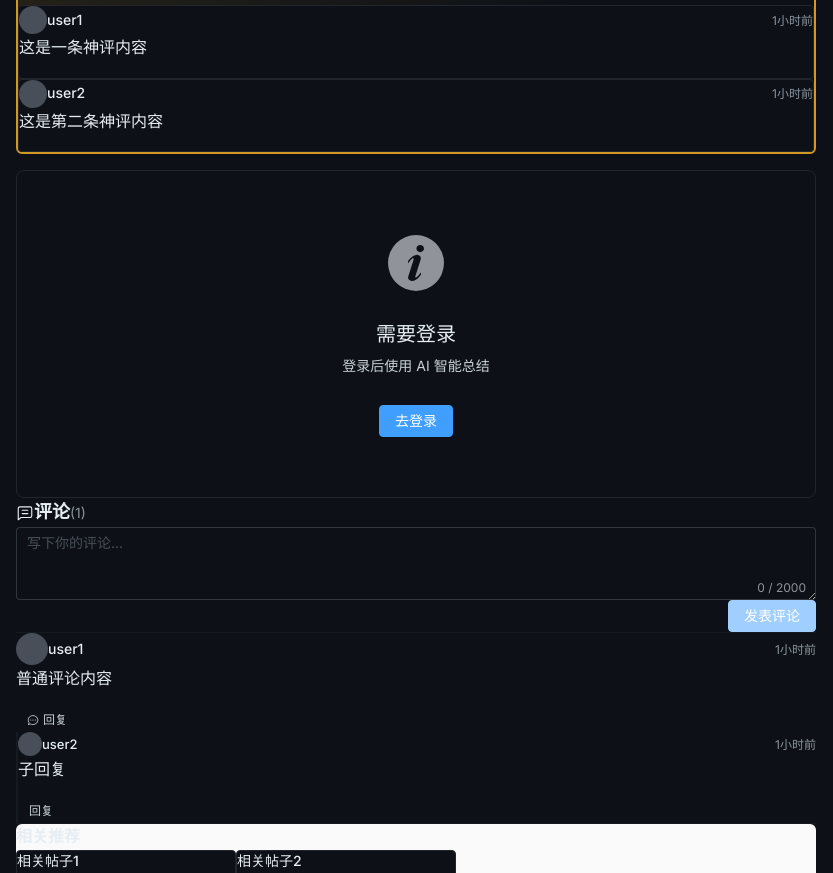
PostDetailPage › Section 6 — Comments › shows inline reply form when reply button clicked
The width and height of the screenshot is (833, 873).
(page scrolled)
Click the 1st button "回复".
click(47, 720)  # box [16,708,78,732]
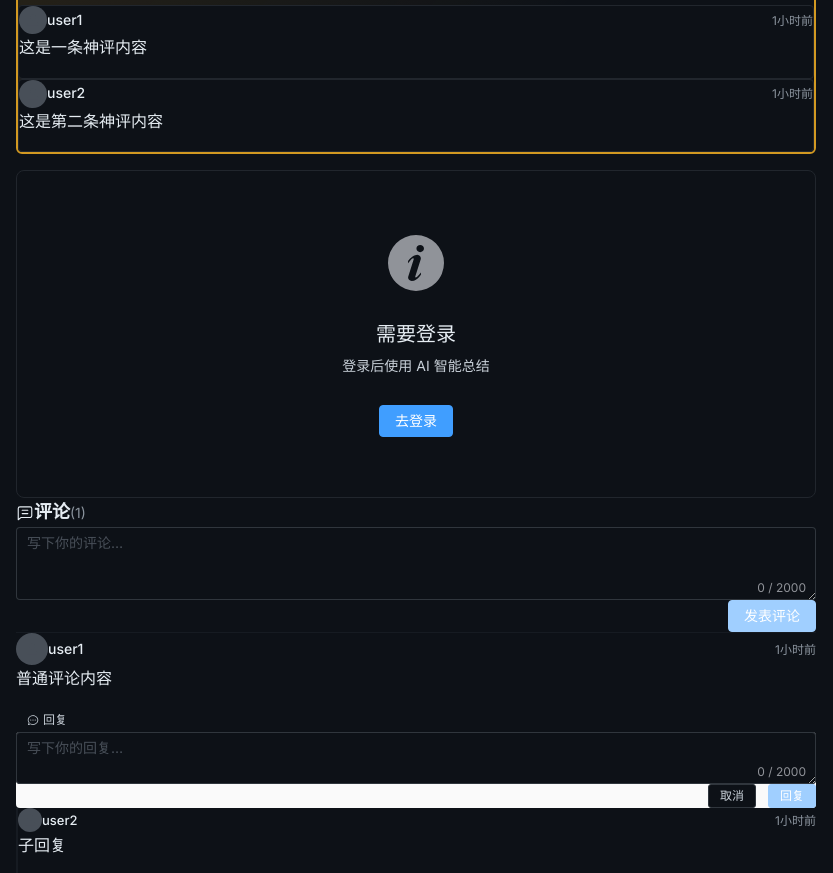
Expected: the element showing "0 / 2000 取消 回复" is shown, [16,732,816,808]
